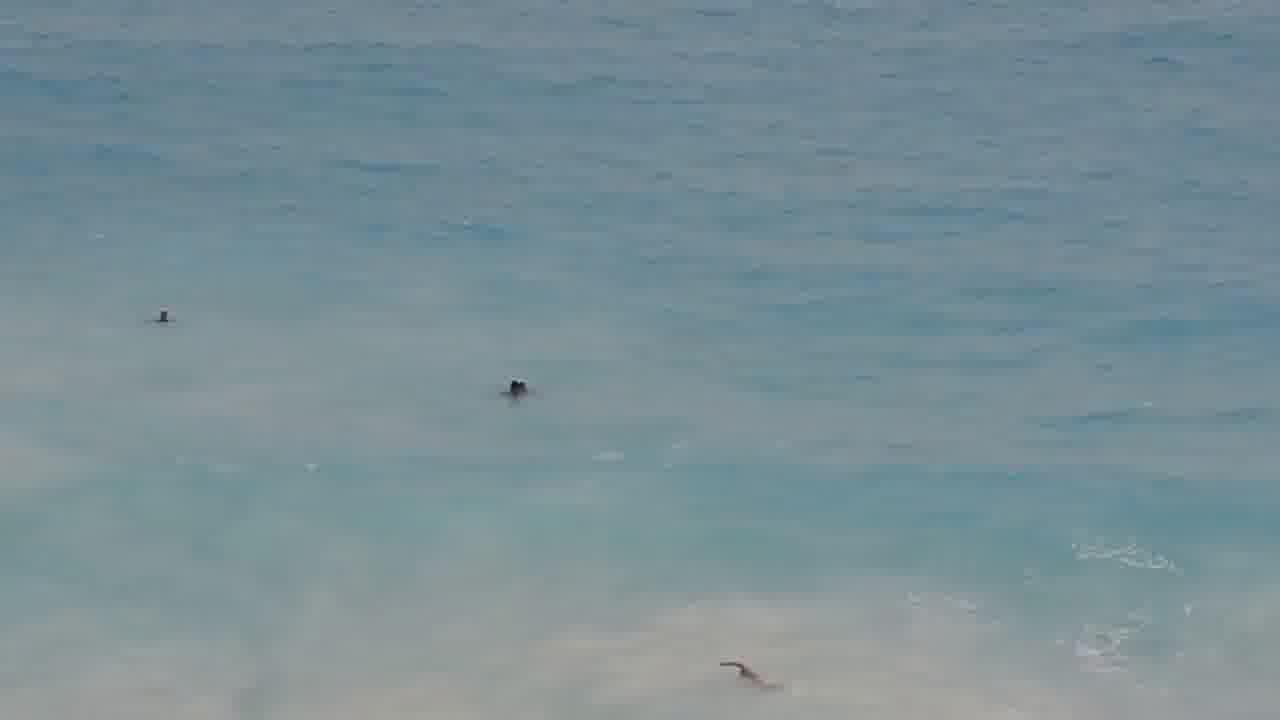human: (499, 365, 539, 396), (152, 303, 175, 331)
